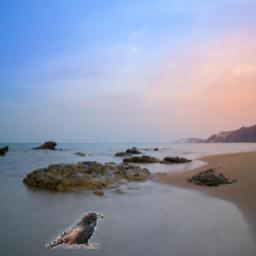Crow: (46, 213, 104, 250)
